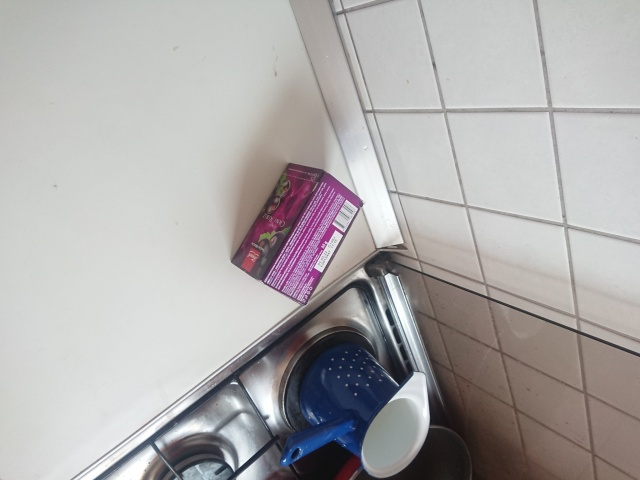Franck Black Currant Tea 60g: (228, 160, 367, 307)
